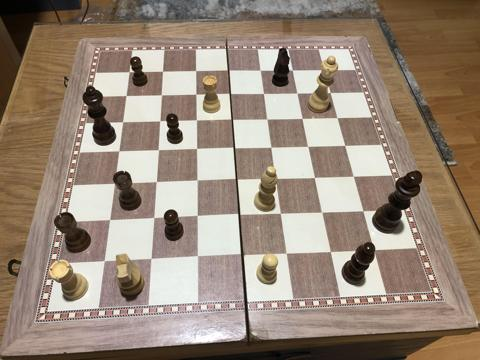xcorner: (155, 66, 167, 79), (189, 115, 201, 128), (319, 64, 331, 76), (287, 64, 299, 76), (254, 65, 266, 77), (222, 65, 234, 77), (189, 66, 201, 78), (122, 67, 134, 79), (325, 87, 337, 99), (292, 87, 304, 99), (258, 88, 270, 100), (223, 89, 235, 101), (189, 90, 201, 102), (154, 90, 166, 102), (119, 91, 131, 103), (332, 112, 344, 124), (297, 113, 309, 125), (261, 114, 273, 126), (225, 115, 237, 127), (152, 116, 164, 128), (115, 117, 127, 129), (339, 140, 351, 152), (302, 141, 314, 153), (265, 142, 277, 154), (227, 143, 239, 155), (189, 144, 201, 156), (150, 145, 162, 157), (111, 146, 123, 158), (348, 171, 360, 183), (309, 172, 321, 184), (269, 174, 281, 186), (229, 175, 241, 187), (189, 176, 201, 188), (148, 177, 160, 189), (107, 179, 119, 191), (357, 206, 369, 218), (316, 207, 328, 219), (274, 209, 286, 221), (232, 210, 244, 222), (189, 212, 201, 224), (146, 213, 158, 225), (102, 215, 114, 227), (367, 245, 379, 257), (324, 246, 336, 258), (279, 248, 291, 260), (235, 250, 247, 262), (189, 252, 201, 264), (143, 254, 155, 266), (97, 256, 109, 268)
